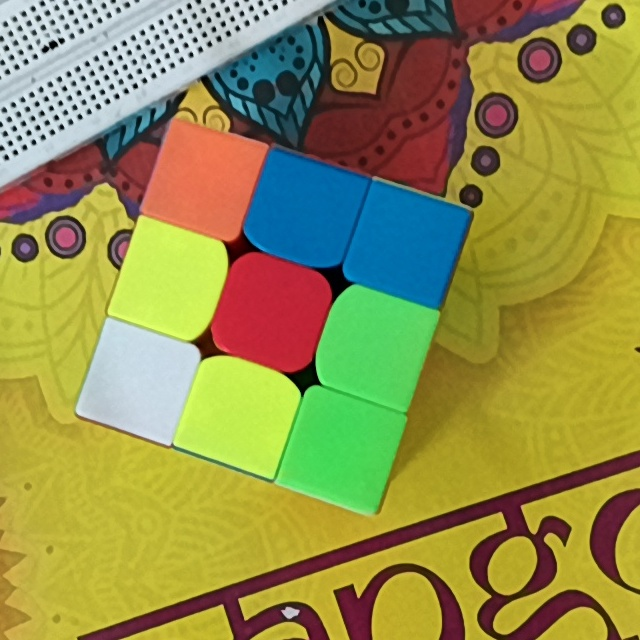tile: (231, 274, 312, 354), (302, 409, 386, 486), (366, 203, 447, 282), (199, 374, 284, 449), (336, 306, 415, 385), (264, 172, 344, 248), (132, 241, 212, 316), (100, 342, 179, 417), (164, 142, 242, 215)
